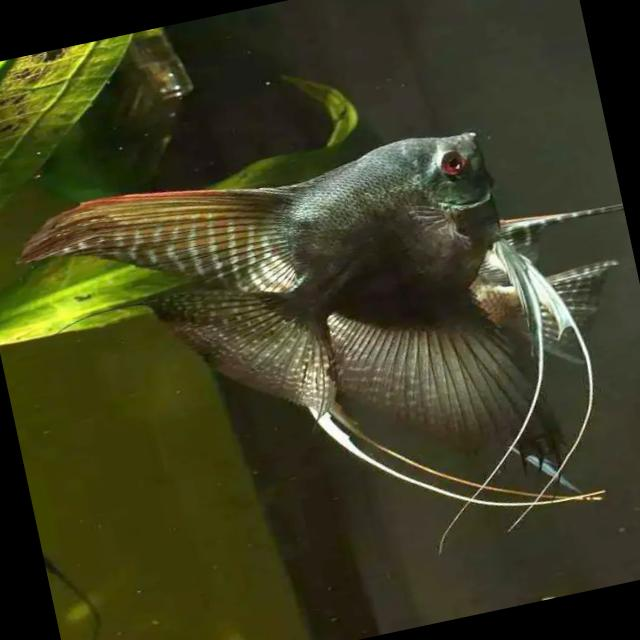AngelFish: (16, 113, 570, 608)
